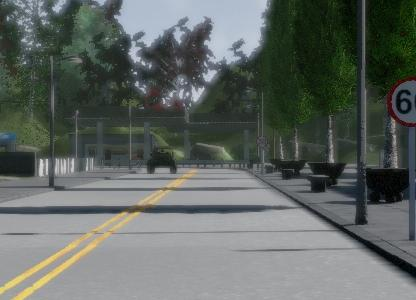Speed_60: (386, 75, 416, 128)
